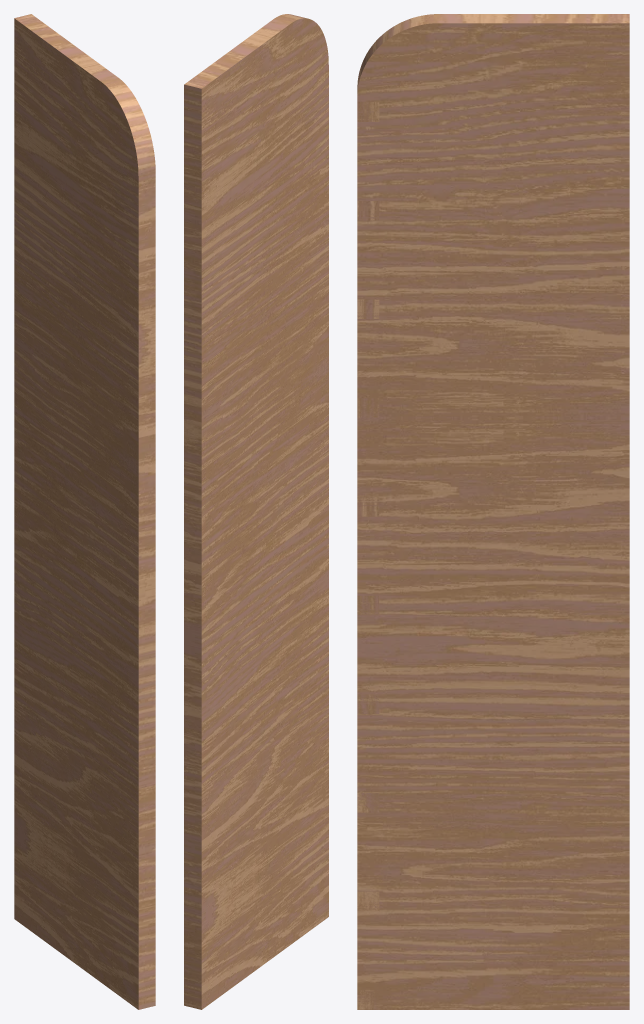
The model's file is Support_010-transformed.glb.
3 renders of one model, left to right at view 1: azimuth 30°, elevation 25°; view 2: azimuth 150°, elevation 25°; view 3: azimuth 270°, elevation 25°, orthographic. The views are drawn at different scales.
Parts seen in each view (by area): view 1: Main; view 2: Main; view 3: Main.
Part boxes in pixels (x1,y1,x2,y2): Main: (14, 14, 155, 1009); Main: (184, 14, 328, 1009); Main: (357, 14, 629, 1009).
Size of the model in its own units: 0.02 by 1 by 0.25.
1 material, 1 textured.
